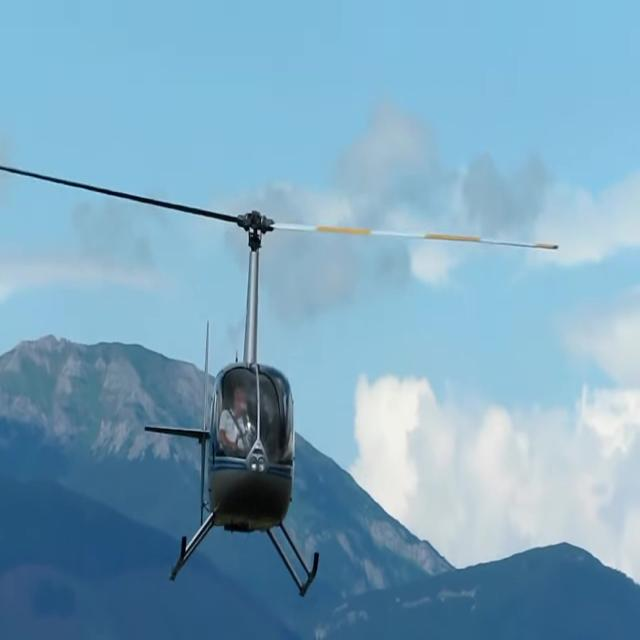CIV_HELO: (141, 206, 320, 599)
